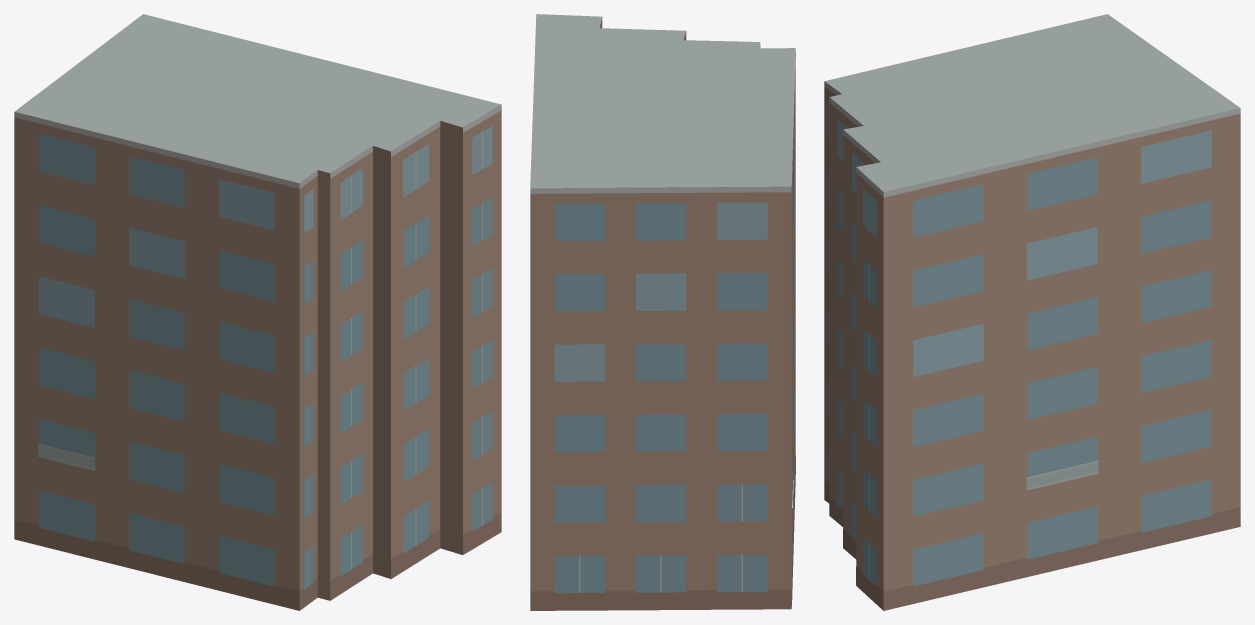
The model's file is survey-upis-32712854.glb.
3 renders of one model, left to right at view 1: azimuth 30°, elevation 25°; view 2: azimuth 150°, elevation 25°; view 3: azimuth 270°, elevation 25°, orthographic. The views are drawn at different scales.
Parts seen in each view (by area): view 1: survey-upis-32712854.tmp; view 2: survey-upis-32712854.tmp; view 3: survey-upis-32712854.tmp.
Boxes of the visible parts, x1,y1,x2,y2 form: survey-upis-32712854.tmp: [14, 14, 501, 610]; survey-upis-32712854.tmp: [530, 14, 795, 610]; survey-upis-32712854.tmp: [824, 14, 1240, 610].
Bounding box in the file's own units: 16.98 × 18.6 × 16.77.
